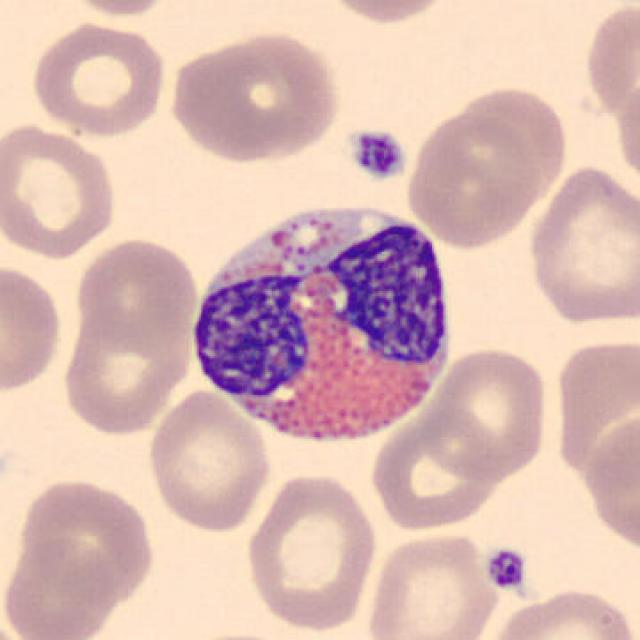Eosinophil: (181, 189, 464, 462)
Platelets: (345, 125, 411, 183), (482, 543, 530, 592)
RBC: (163, 26, 345, 166), (242, 469, 380, 633), (403, 104, 548, 252), (57, 294, 195, 438), (144, 386, 274, 534), (369, 398, 509, 534), (524, 162, 638, 328), (14, 474, 158, 605), (421, 342, 553, 483), (26, 18, 170, 139), (0, 118, 121, 261), (364, 527, 502, 640), (69, 235, 201, 349), (552, 335, 640, 484), (0, 534, 117, 640), (572, 404, 640, 554), (0, 259, 66, 397), (580, 0, 638, 155), (483, 583, 638, 640), (315, 0, 462, 28), (610, 69, 640, 197), (52, 0, 183, 18), (171, 627, 313, 640)
